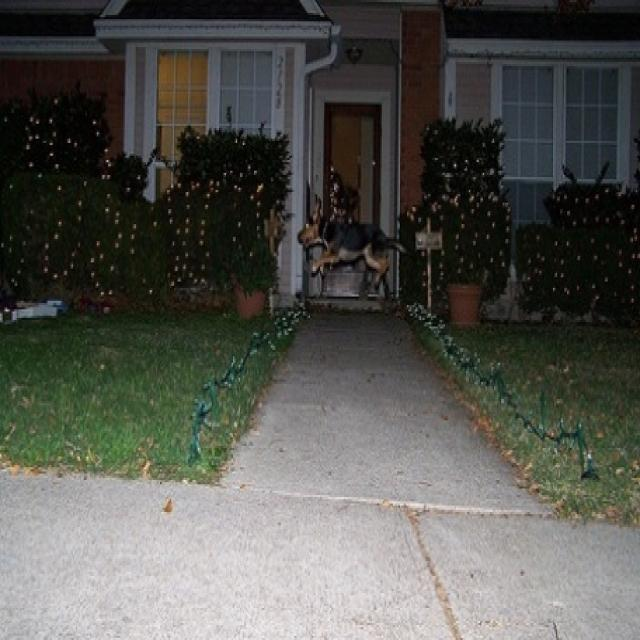Dog: (292, 194, 412, 312)
